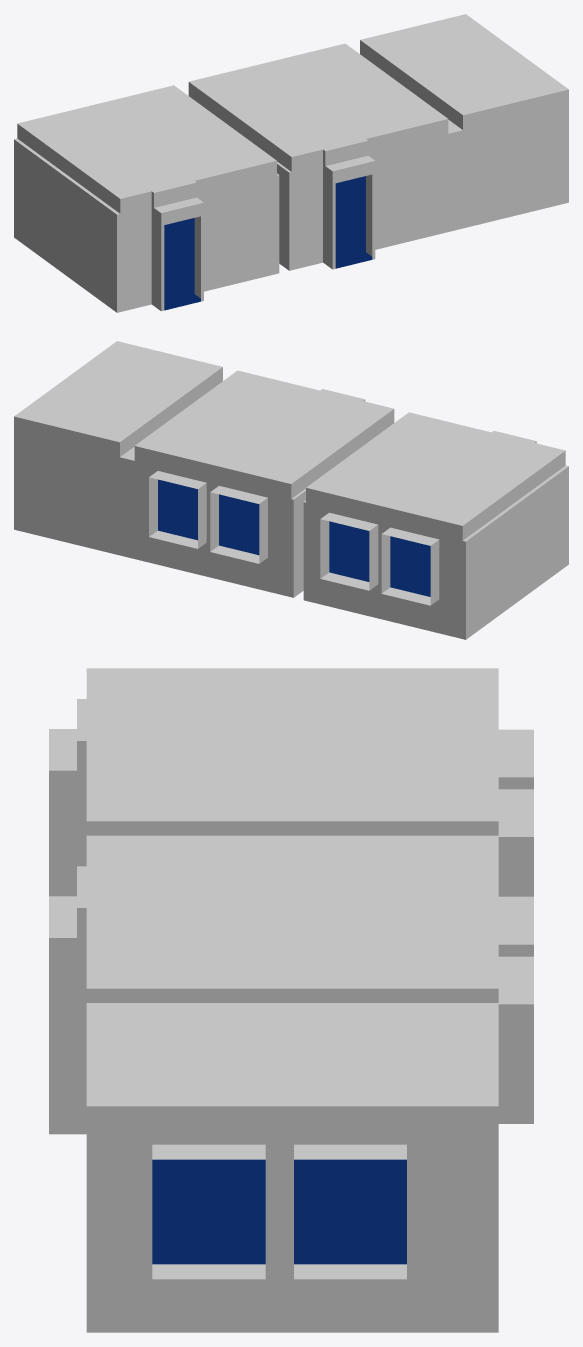
File: patro1-A802.fbx
The picture shows the model from 3 angles, top to bottom: view 1: azimuth 30°, elevation 25°; view 2: azimuth 150°, elevation 25°; view 3: azimuth 270°, elevation 25°; orthographic projection. The views are drawn at different scales.
Parts seen in each view (by area): view 1: A802.Top, A802.Front, A802.Left, A802.Bottom, A802.Right; view 2: A802.Top, A802.Back, A802.Left, A802.Bottom, A802.Right; view 3: A802.Top, A802.Right, A802.Bottom.
Part boxes in pixels (x1=…): A802.Top: x1=14, y1=14, x2=568, y2=214; A802.Front: x1=117, y1=89, x2=568, y2=312; A802.Left: x1=14, y1=40, x2=462, y2=312; A802.Bottom: x1=164, y1=176, x2=372, y2=310; A802.Right: x1=194, y1=174, x2=372, y2=298; A802.Top: x1=14, y1=341, x2=568, y2=545; A802.Back: x1=14, y1=416, x2=465, y2=639; A802.Left: x1=120, y1=367, x2=568, y2=639; A802.Bottom: x1=149, y1=479, x2=430, y2=605; A802.Right: x1=149, y1=477, x2=390, y2=593; A802.Top: x1=49, y1=668, x2=533, y2=1159; A802.Right: x1=49, y1=741, x2=533, y2=1332; A802.Bottom: x1=152, y1=1159, x2=406, y2=1279.
Bounding box in the file's own units: 1145 × 265 × 515.
